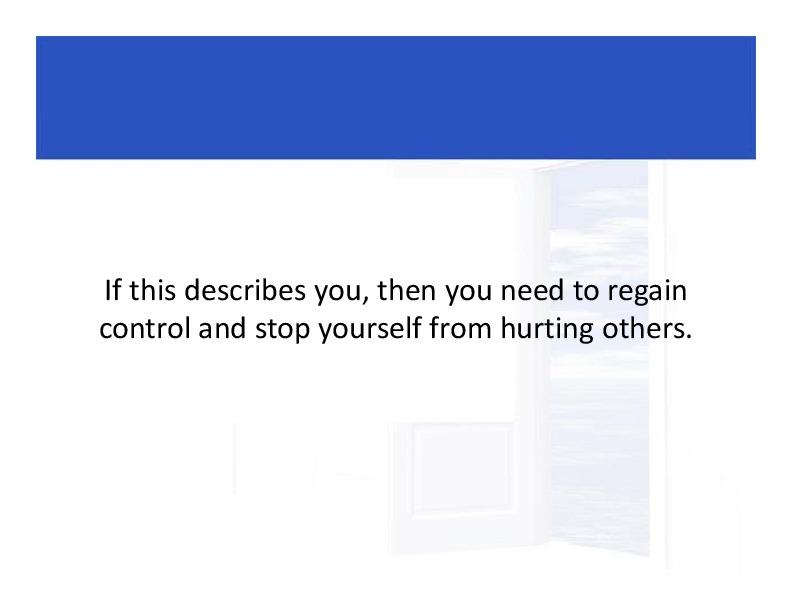title: (90, 256, 716, 364)
